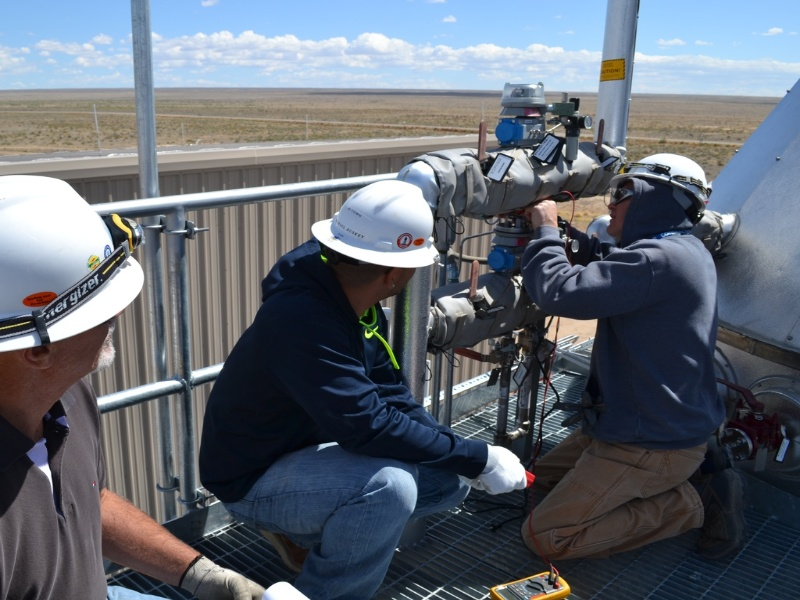Baret: (311, 177, 438, 270)
